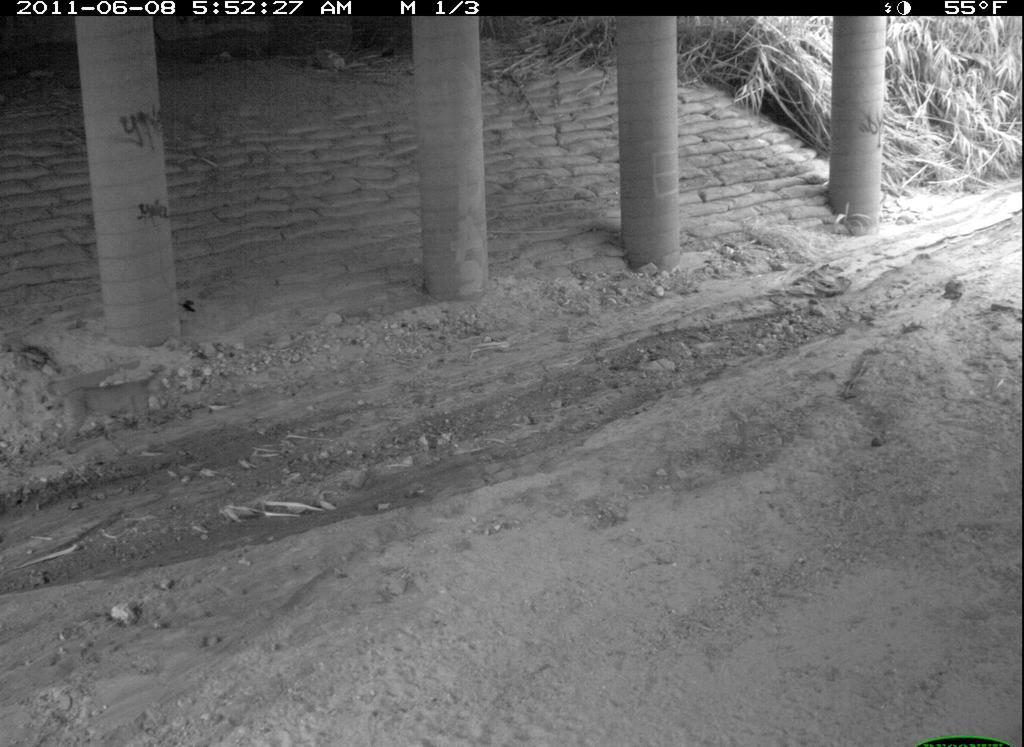bobcat: (90, 734, 358, 747)
